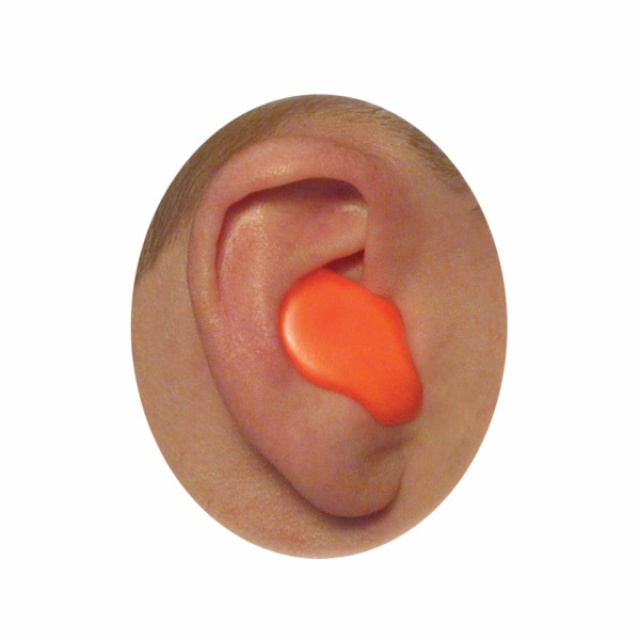Hearing_Protection: (286, 259, 420, 410)
